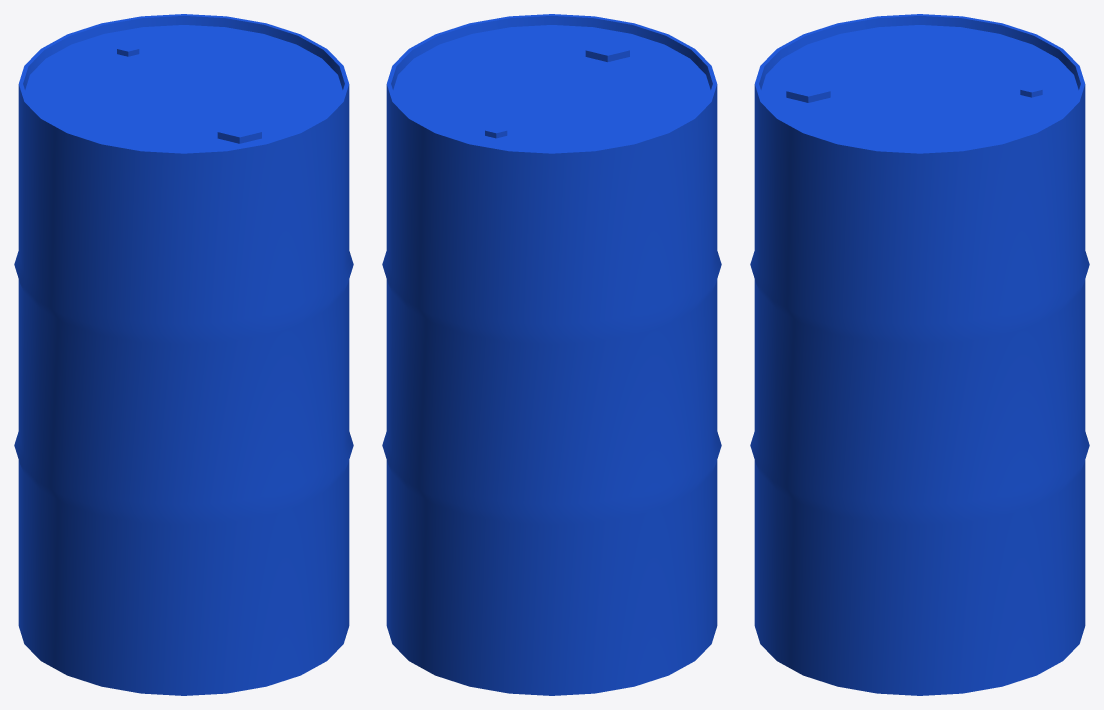
Rendered from barrel.fbx.
3 views of the same model, side by side, from view 1: azimuth 30°, elevation 25°; view 2: azimuth 150°, elevation 25°; view 3: azimuth 270°, elevation 25° (orthographic).
Parts seen in each view (by area): view 1: barrel; view 2: barrel; view 3: barrel.
Part boxes in pixels (box(x1,y1,x2,y2)): barrel: box(14, 14, 353, 695); barrel: box(382, 14, 721, 695); barrel: box(750, 14, 1089, 695).
Bounding box in the file's own units: 51 × 89.88 × 51.
